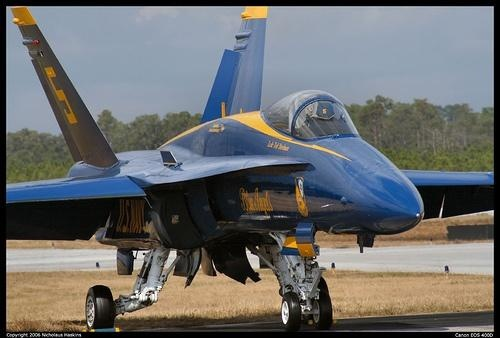aeroplane: (8, 6, 493, 333)
